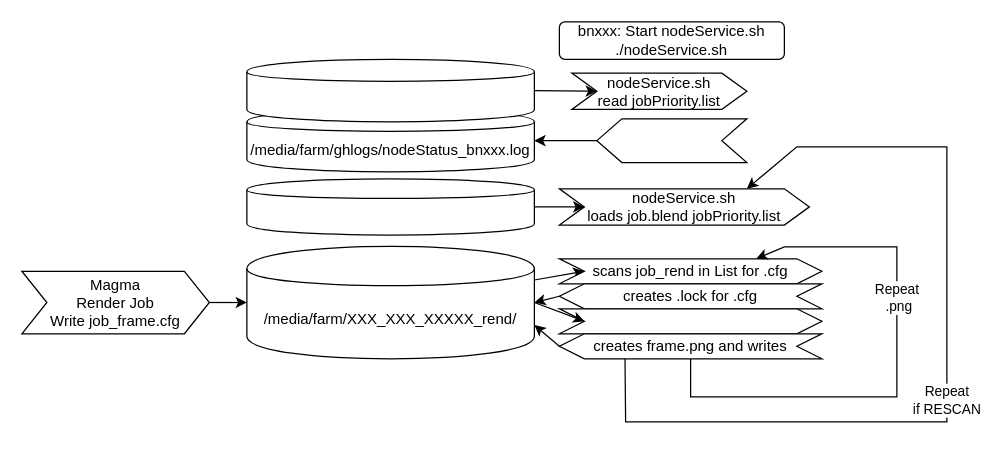
This 1003x454 diagram has some shape labels left out. The shapes that lost their labels are listed below. From the top down, each one's box as (x1, y1, x2, y2) in pixels, then its label:
(246, 58, 534, 122): /media/farm/ghprojects/jobpriority.list
(596, 118, 747, 162): nodeService.sh update logs
(246, 178, 534, 235): /media/farm/XXX_XXX_XXXXX_zip/
(558, 308, 822, 334): verify it owns lock for .cfg
